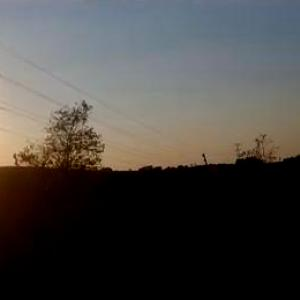follow: (142, 187, 206, 299)
